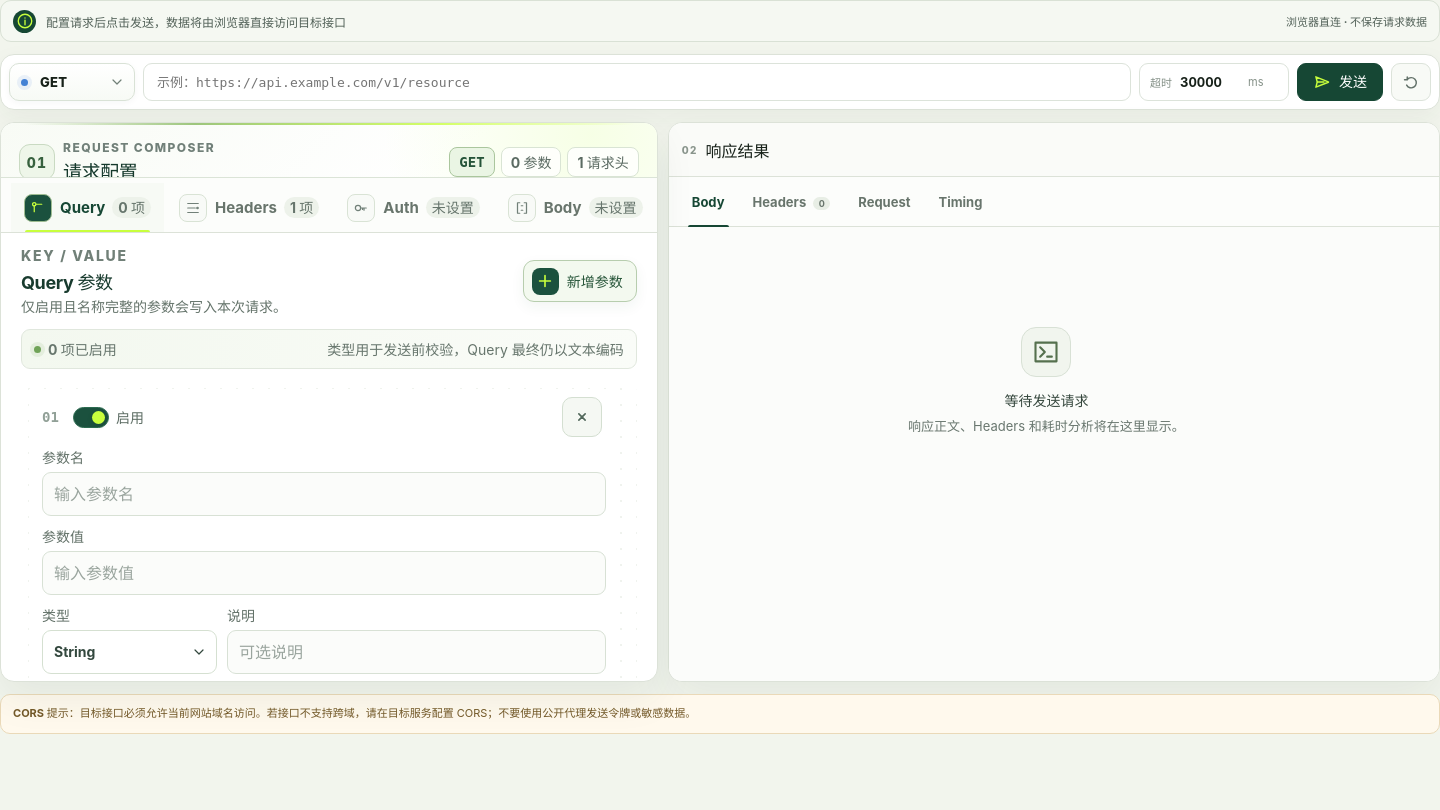
Test case: ApiTestTool › uses an accessible custom method picker
Click the button named "HTTP 请求方法".
click(72, 82)  # box left=9, top=63, right=135, bottom=101
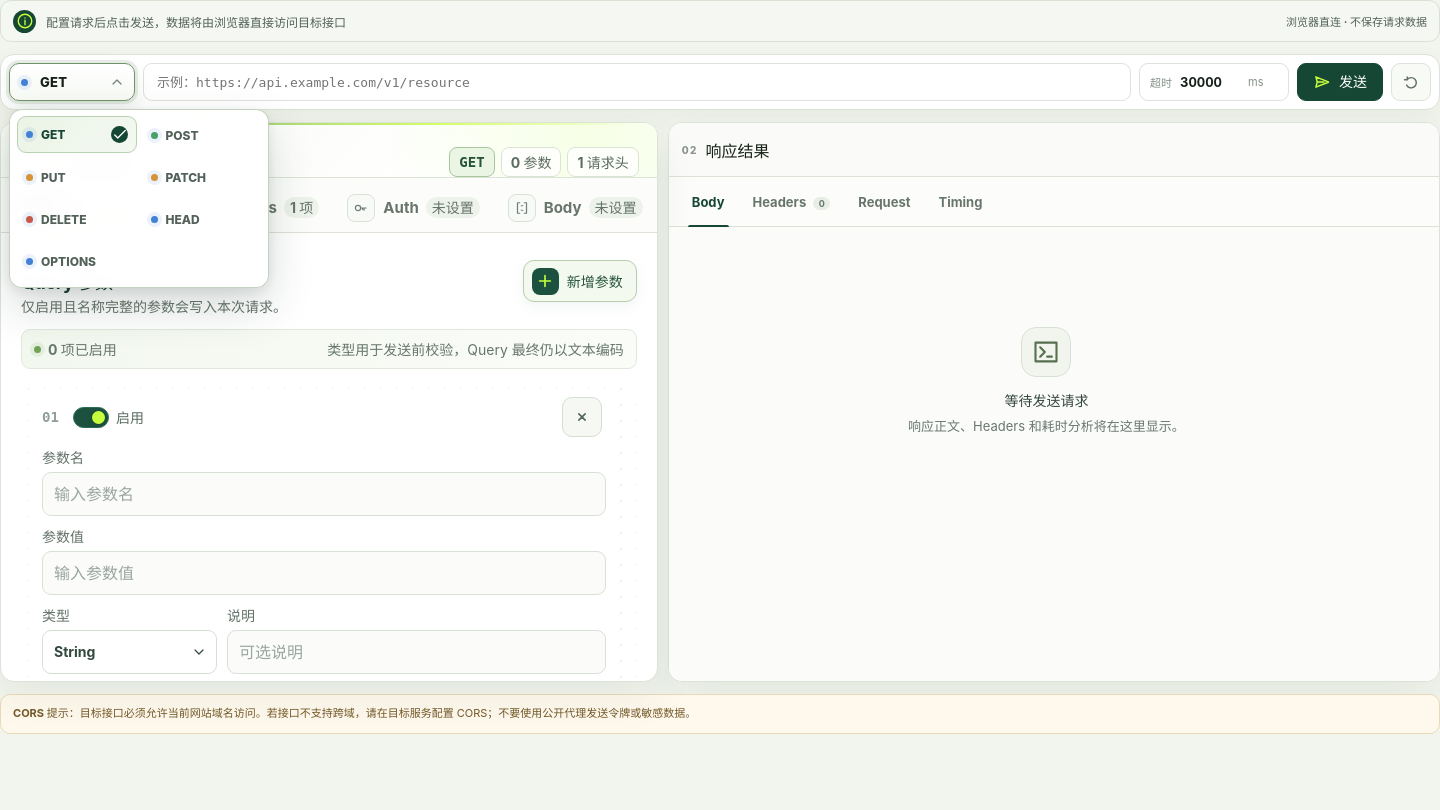
Expected: the button named "HTTP 请求方法" is expanded, left=9, top=63, right=135, bottom=101
Expected: the number of options is 7
Press ArrowDown in the option "GET", box left=17, top=116, right=136, bottom=153
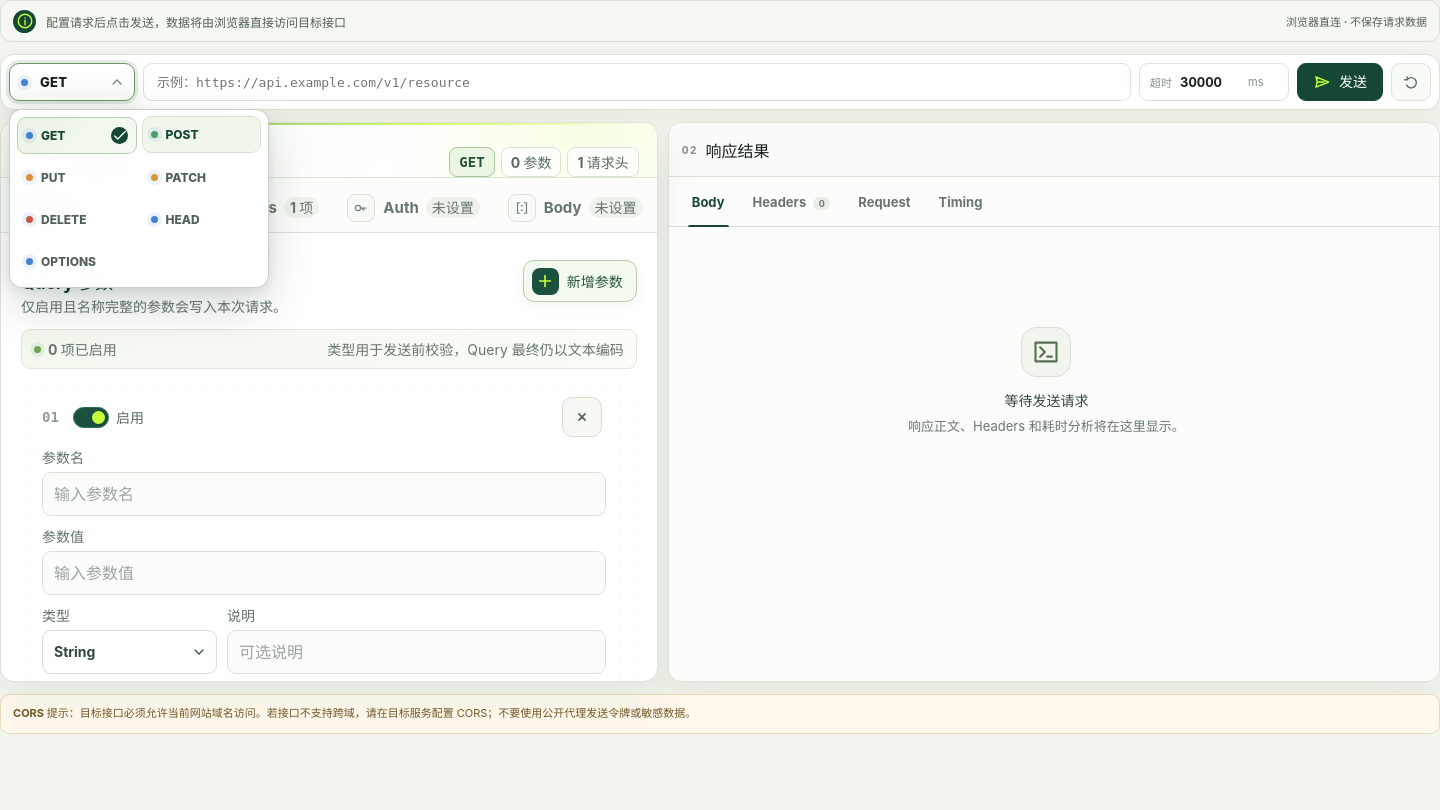
Click the option "PATCH".
click(201, 178)  # box left=142, top=159, right=261, bottom=196
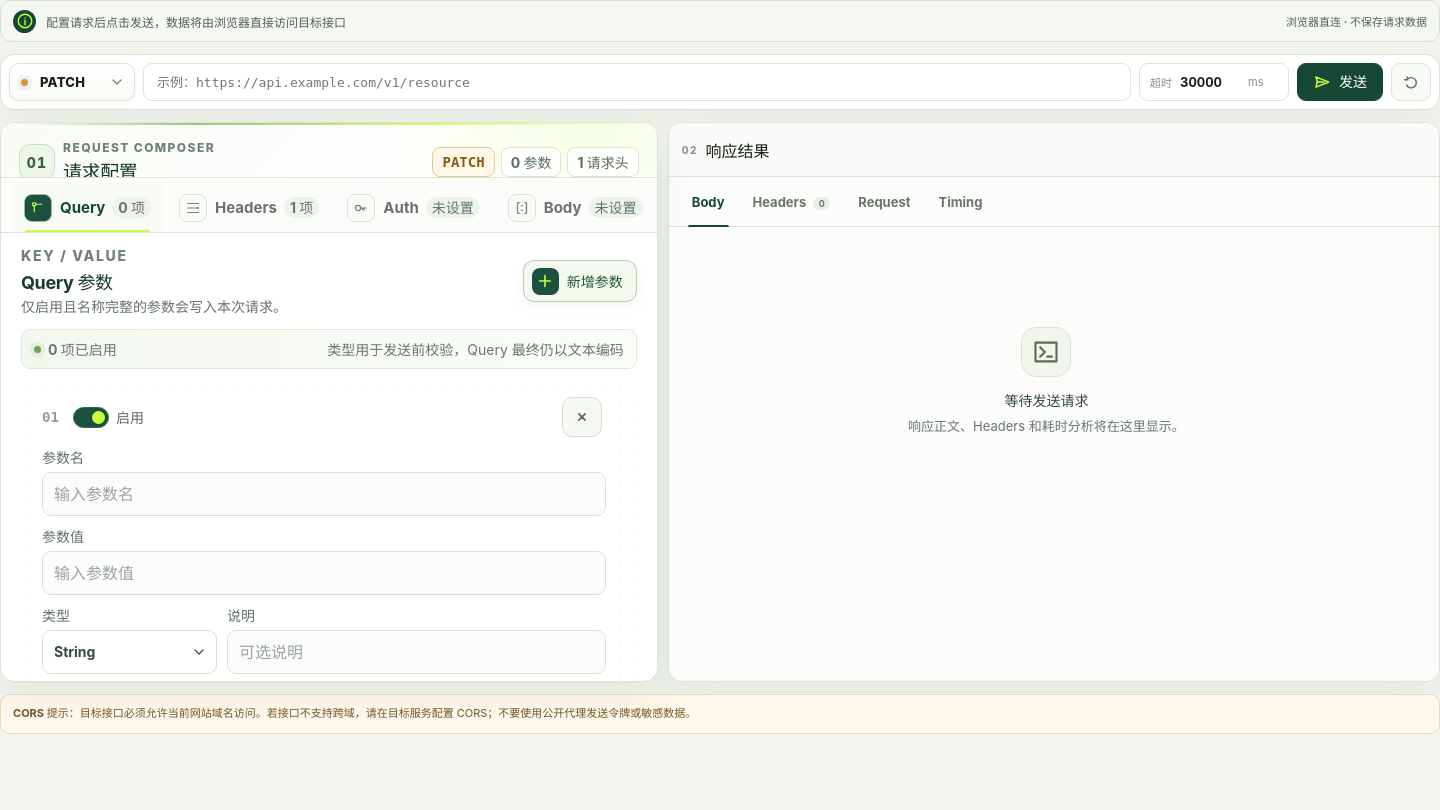
Expected: the button named "HTTP 请求方法" is collapsed, left=9, top=63, right=135, bottom=101
